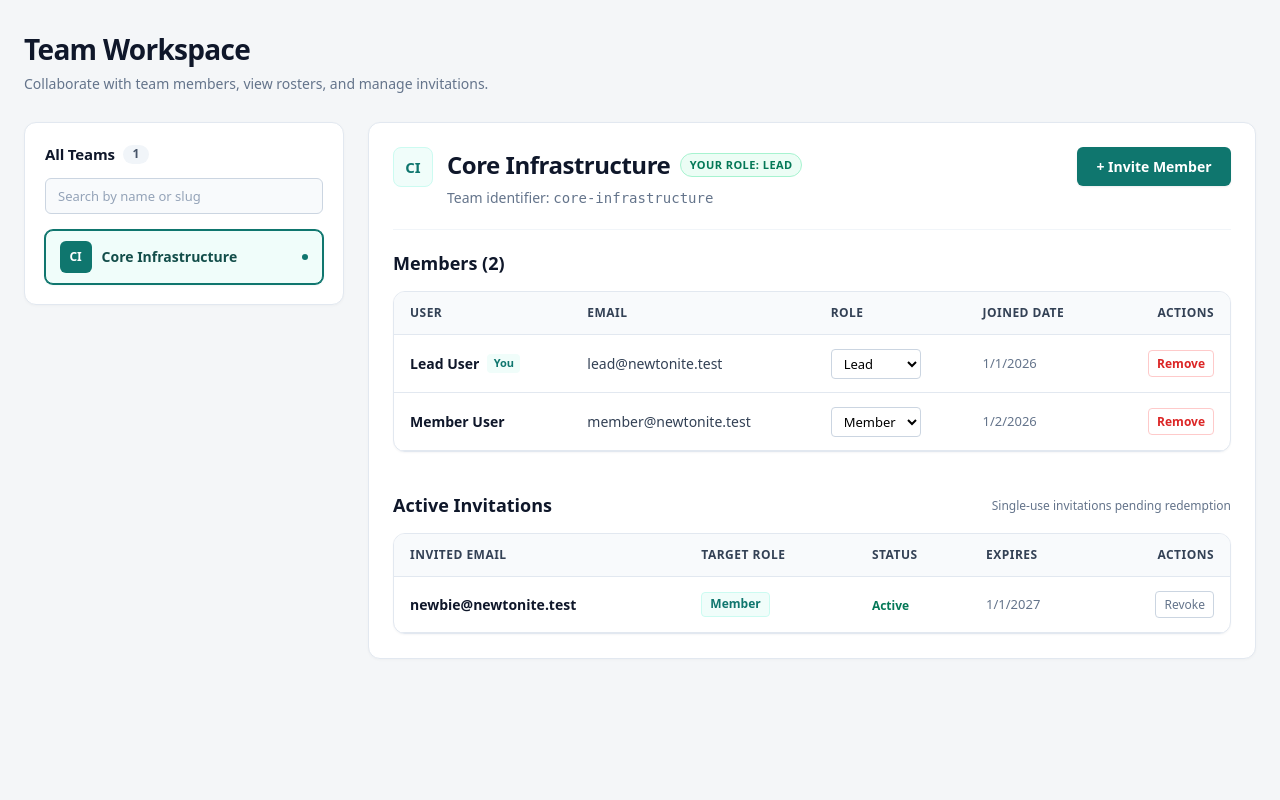
Test: Team Page › updates revoked invitation status immediately in table
This screenshot has width=1280, height=800.
Click the button with aria-label "Revoke invitation for newbie@newtonite.test": (1185, 604) [1156,591,1214,618]
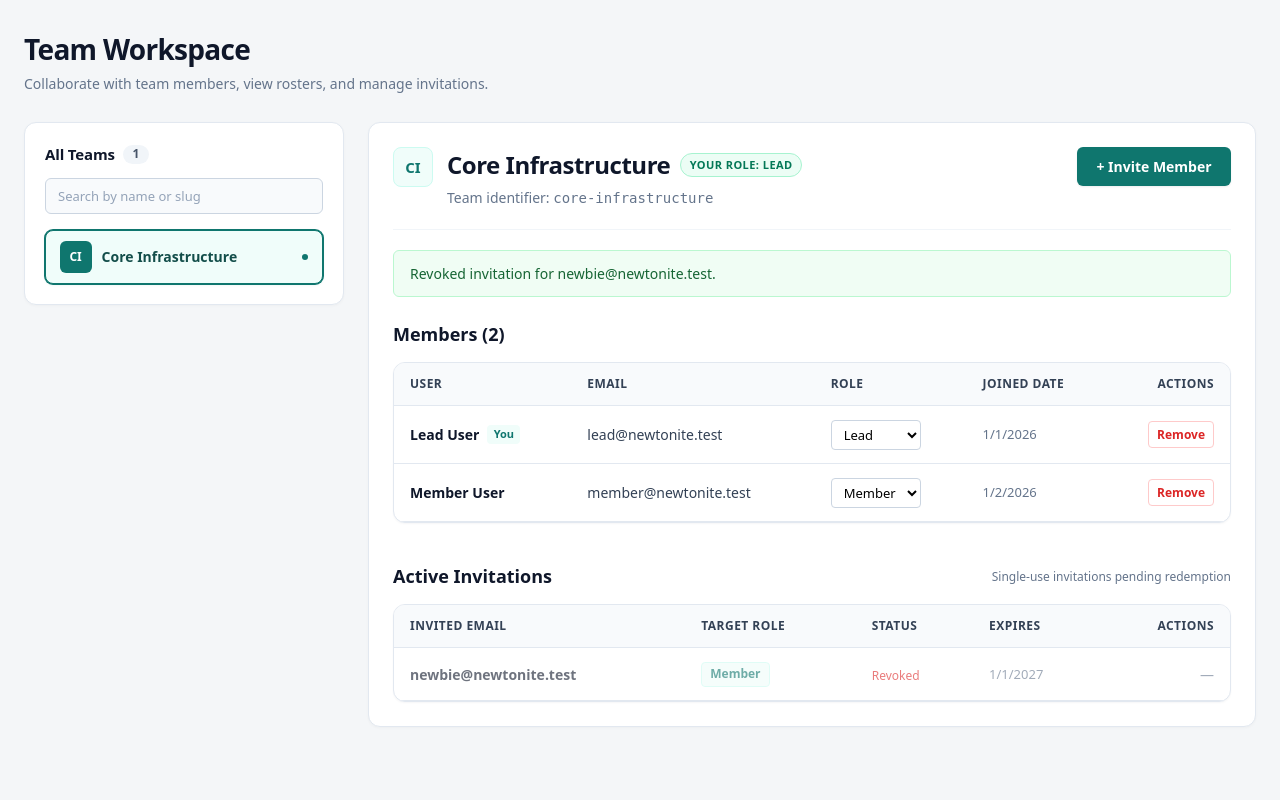
expect the text "Revoked" is shown: met, box [872,667,920,684]
